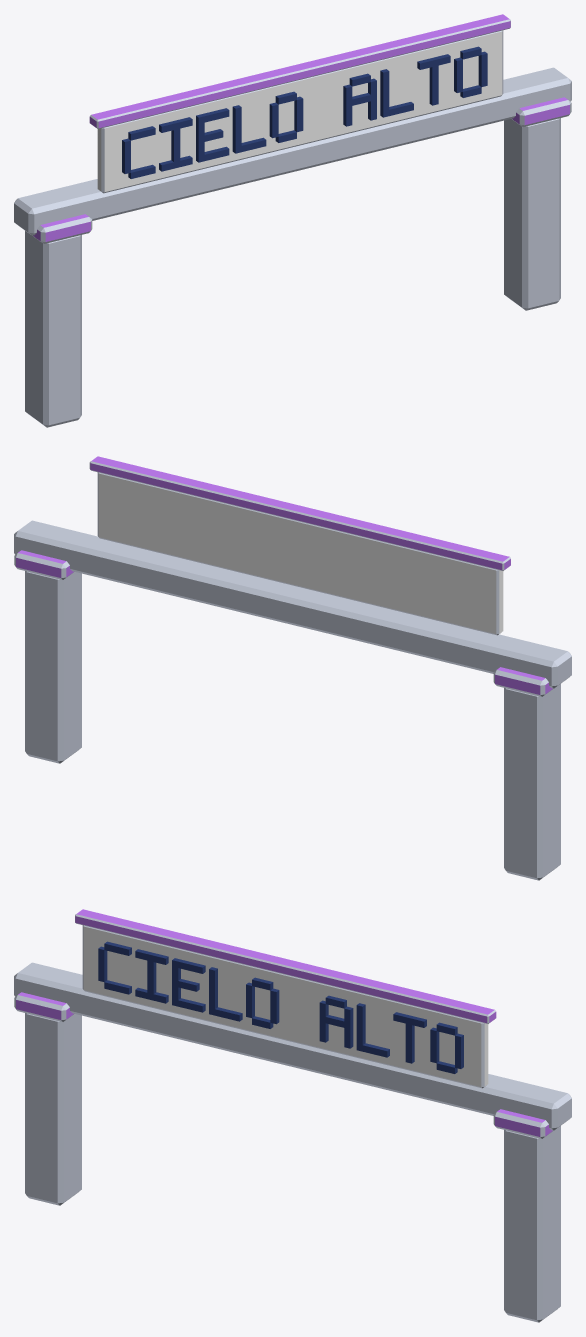
File: cielo-alto_Arco.glb
3 views of the same model, one above another, from view 1: azimuth 30°, elevation 25°; view 2: azimuth 150°, elevation 25°; view 3: azimuth 330°, elevation 25° (orthographic).
Parts seen in each view (by area): view 1: Mapa_cielo_alto_Arco; view 2: Mapa_cielo_alto_Arco; view 3: Mapa_cielo_alto_Arco.
Boxes of the visible parts, x1=… form: Mapa_cielo_alto_Arco: x1=14, y1=14, x2=571, y2=427; Mapa_cielo_alto_Arco: x1=14, y1=456, x2=571, y2=880; Mapa_cielo_alto_Arco: x1=14, y1=909, x2=571, y2=1322.
Size of the model in its own units: 84 by 43.9 by 8.
Materials: 1 (1 with a texture image).
